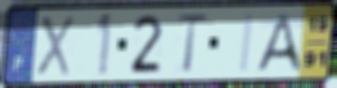1: (94, 11, 115, 79)
2: (129, 13, 167, 76)
A: (253, 12, 303, 74)
I: (238, 11, 257, 75)
T: (174, 11, 210, 76)
X: (34, 15, 76, 78)
